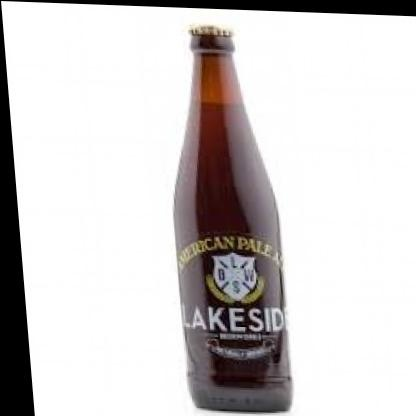trash: (174, 27, 291, 411)
